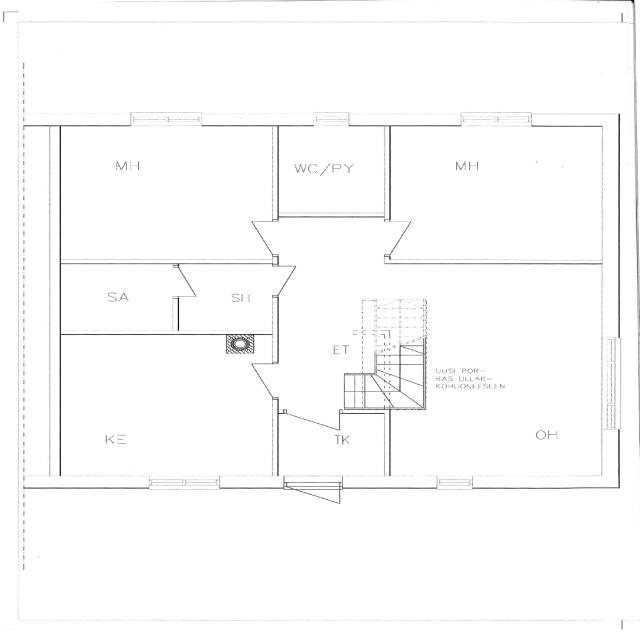door: (288, 478, 345, 506), (384, 215, 416, 260), (246, 216, 279, 258), (171, 262, 200, 299)
window: (595, 337, 628, 424), (127, 110, 205, 130), (146, 474, 223, 492), (458, 112, 536, 129), (433, 476, 475, 492), (310, 115, 350, 128)
zone: (277, 262, 610, 474), (59, 330, 276, 482), (384, 123, 604, 264), (52, 123, 278, 259), (275, 124, 388, 219), (58, 263, 178, 333), (172, 261, 278, 331)
